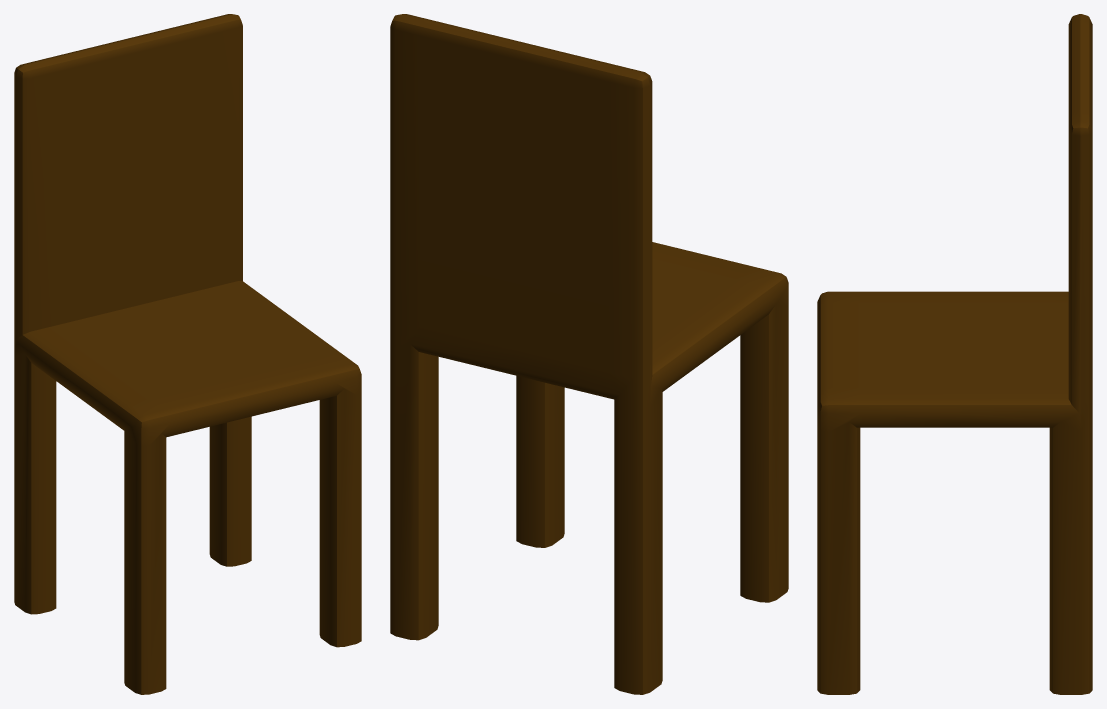
The model's file is Chair.fbx.
3 views of the same model, side by side, from view 1: azimuth 30°, elevation 25°; view 2: azimuth 150°, elevation 25°; view 3: azimuth 270°, elevation 25° (orthographic). The views are drawn at different scales.
Parts seen in each view (by area): view 1: pCube16; view 2: pCube16; view 3: pCube16.
Boxes of the visible parts, <box> form: pCube16: <box>14,14,361,694</box>; pCube16: <box>390,14,788,694</box>; pCube16: <box>817,14,1092,694</box>.
Bounding box in the file's own units: 3.79 × 8.64 × 3.79.
